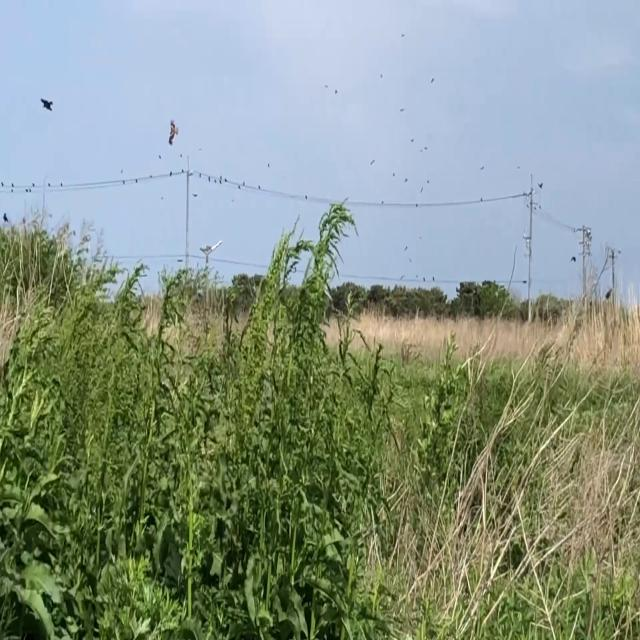bird: (40, 91, 53, 116), (169, 115, 177, 148), (570, 250, 576, 265), (539, 176, 543, 193)
